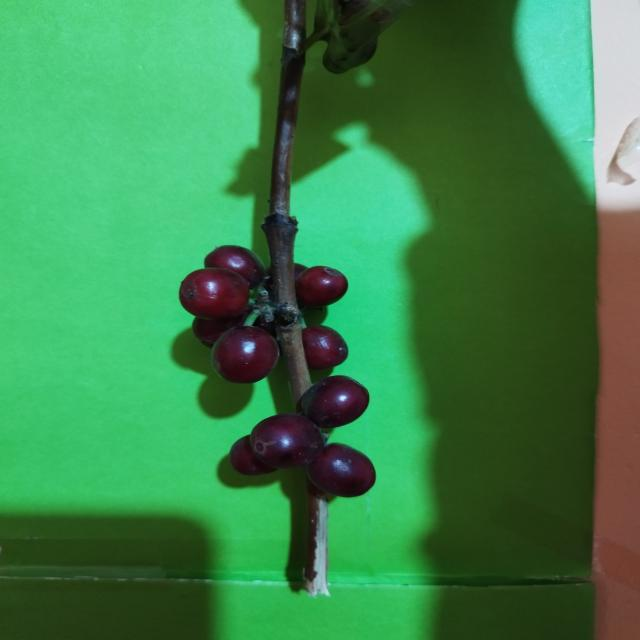Sano: (248, 415, 325, 474), (209, 326, 281, 388), (296, 376, 372, 434), (177, 267, 251, 324), (310, 443, 380, 501)
